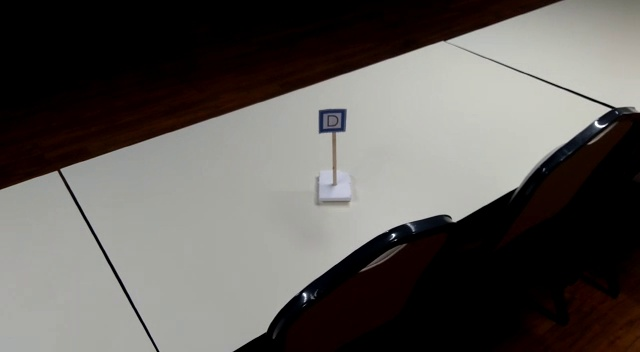durak: (317, 108, 348, 133)
